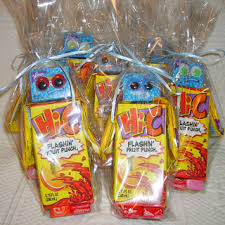Juice_Box: (30, 98, 96, 215), (113, 100, 171, 213), (92, 72, 140, 169), (171, 80, 206, 188)
